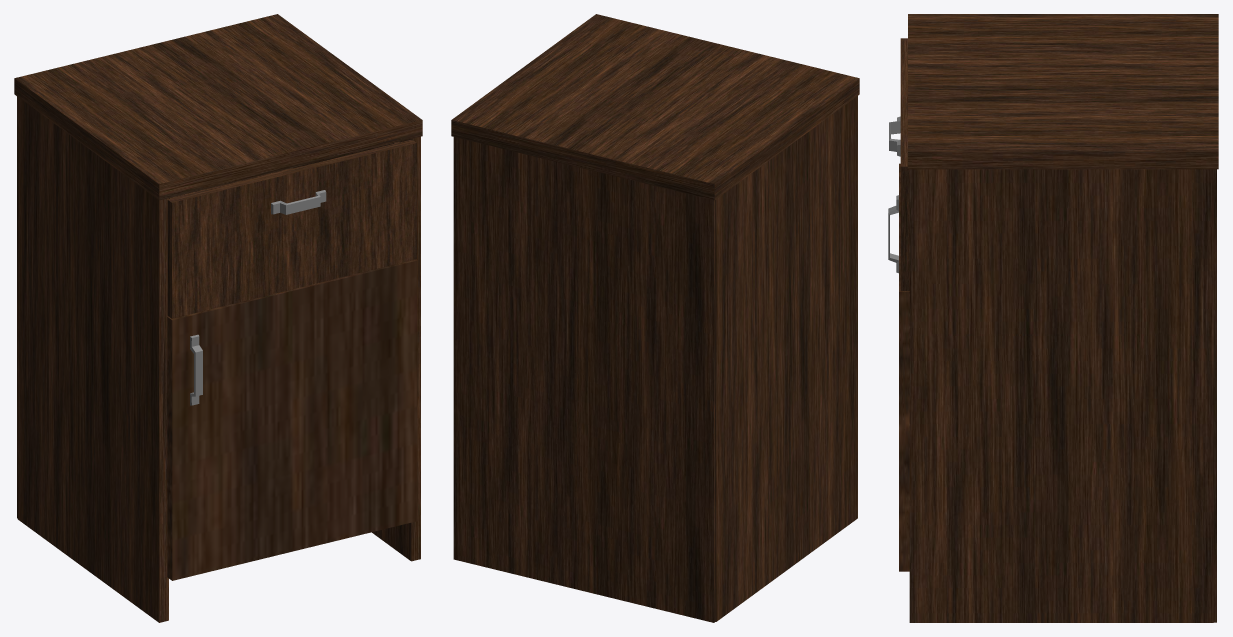
File: tumba.fbx
3 renders of one model, left to right at view 1: azimuth 30°, elevation 25°; view 2: azimuth 150°, elevation 25°; view 3: azimuth 270°, elevation 25°, orthographic. The views are drawn at different scales.
Visible parts, largest first — view 1: TumbaMain, TumbaDoor, TumbaShelf; view 2: TumbaMain; view 3: TumbaMain, TumbaDoor, TumbaShelf.
Part boxes in pixels (left/top/right/bottom): TumbaMain: left=14, top=14, right=422, bottom=622; TumbaDoor: left=167, top=259, right=417, bottom=580; TumbaShelf: left=167, top=140, right=416, bottom=318; TumbaMain: left=451, top=14, right=859, bottom=622; TumbaMain: left=908, top=14, right=1218, bottom=622; TumbaDoor: left=888, top=163, right=909, bottom=571; TumbaShelf: left=889, top=38, right=909, bottom=290.
Bounding box in the file's own units: 116 × 185 × 118.
